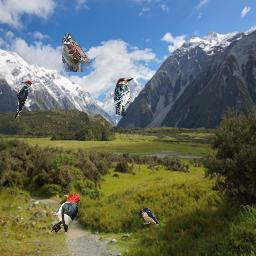Sparrow: (62, 33, 98, 72)
Swallow: (141, 207, 161, 225)
Woodpecker: (50, 193, 80, 233), (113, 76, 134, 116), (15, 80, 32, 120)
